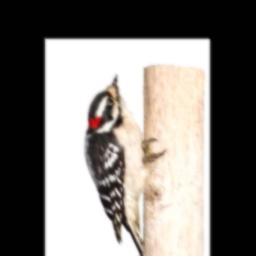Woodpecker: (84, 73, 166, 244)
